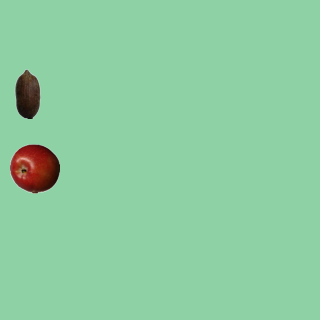Apple Braeburn: (9, 143, 59, 193)
Nut Pecan: (2, 68, 52, 118)
